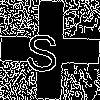S: (25, 25, 60, 72)
